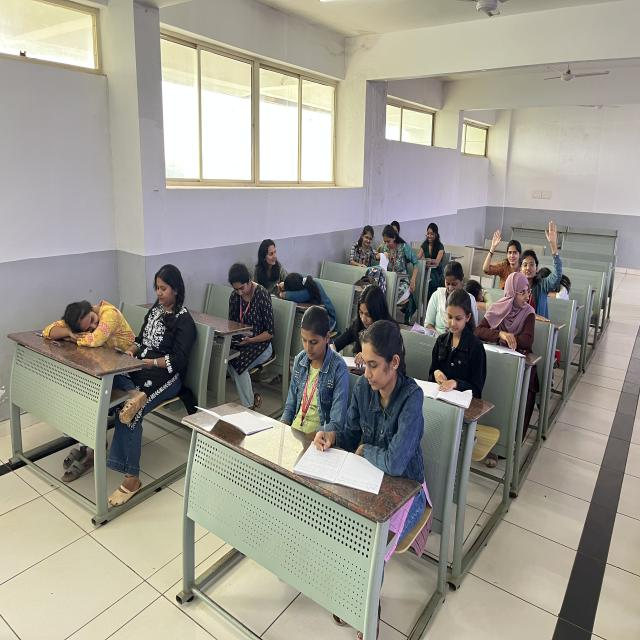Hand Rising: (516, 218, 565, 303), (486, 225, 524, 281)
Reading: (400, 280, 485, 399)
Sleeping: (41, 283, 136, 368), (274, 264, 336, 314)
Using Phone: (123, 260, 199, 408), (220, 256, 276, 376)
Writing: (330, 280, 393, 363)
